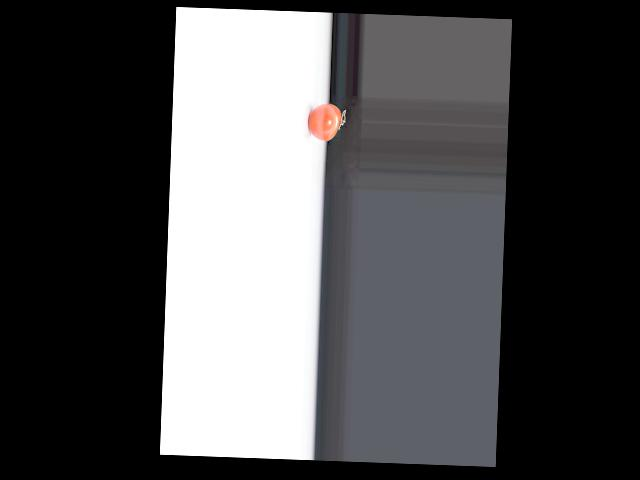tomato: (307, 103, 341, 142)
